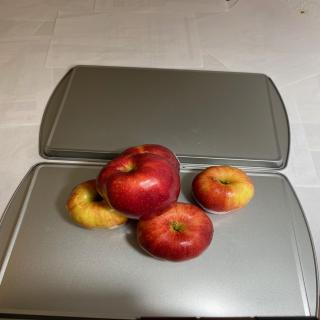Apple: (95, 152, 181, 220), (136, 202, 214, 263), (65, 179, 128, 230), (192, 165, 254, 214), (117, 144, 180, 174)
